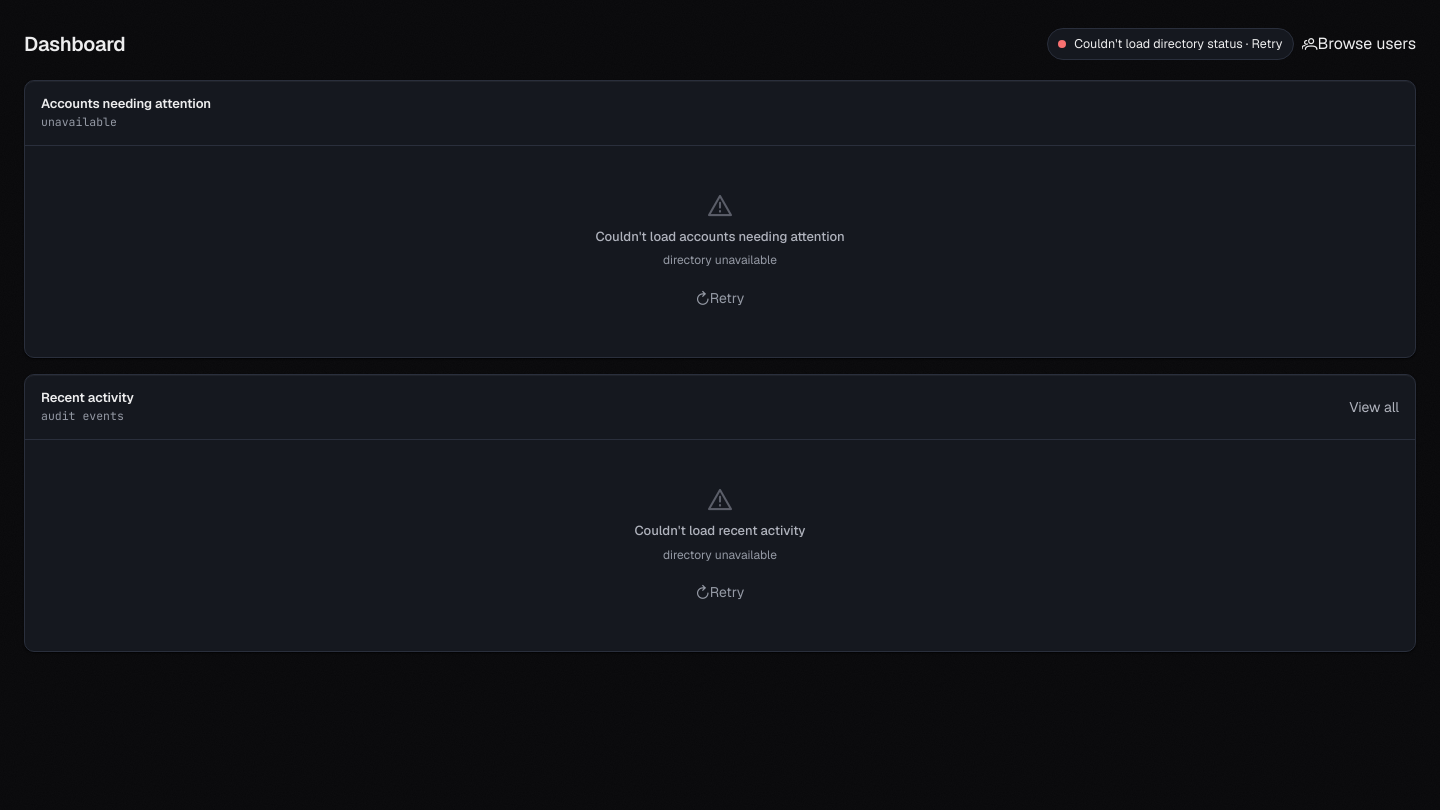
Test case: dashboard panels that fail to load › load again when retried
Click the button "Retry" below "Couldn't load recent activity": (720, 592) [696,582,744,602]
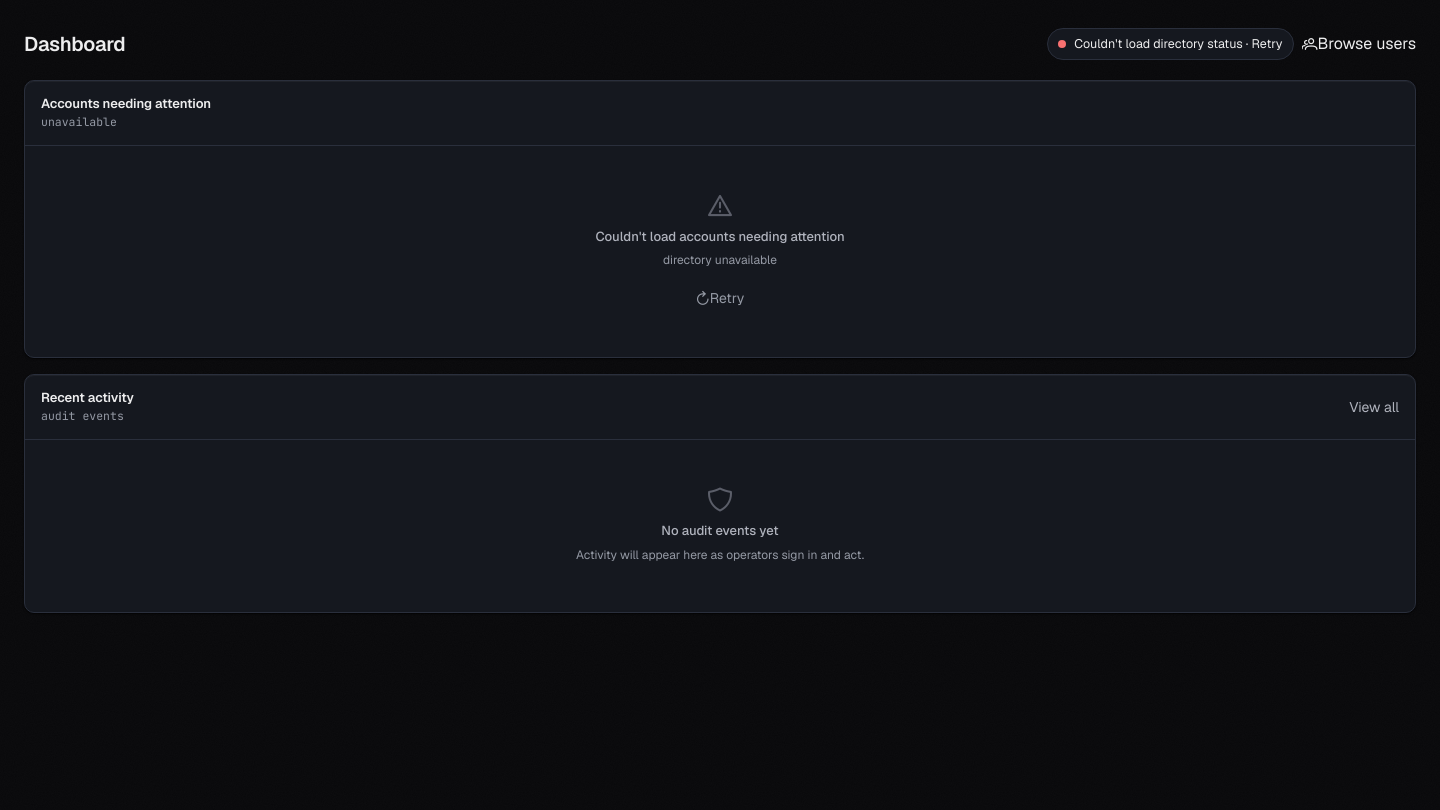
Check: the text "No audit events yet" is shown, box [661,522,779,540]
